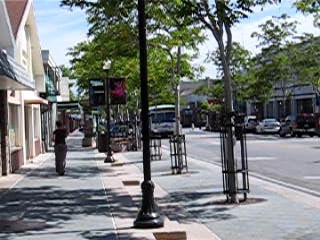person: (51, 121, 70, 178), (50, 121, 69, 178), (52, 121, 71, 178), (51, 120, 70, 177), (51, 122, 70, 179)
target_negative: (242, 44, 295, 160), (272, 80, 316, 196), (151, 1, 264, 28), (189, 134, 245, 156), (217, 110, 231, 197), (221, 162, 281, 169)
